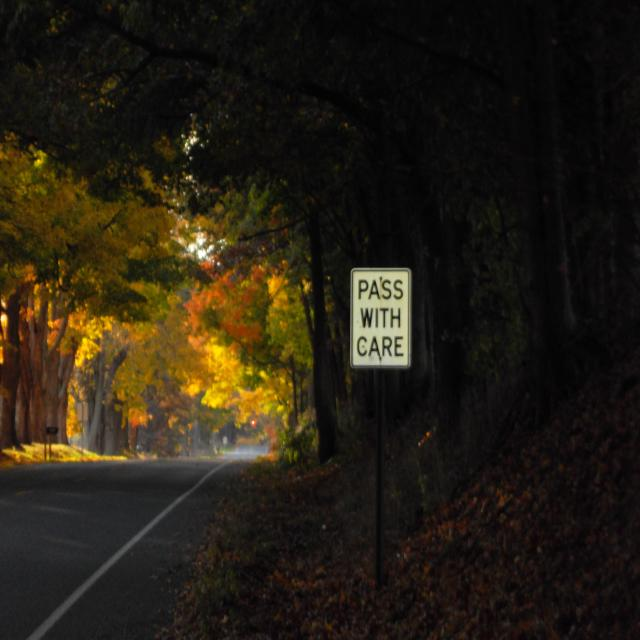regulatory: (348, 264, 413, 373)
